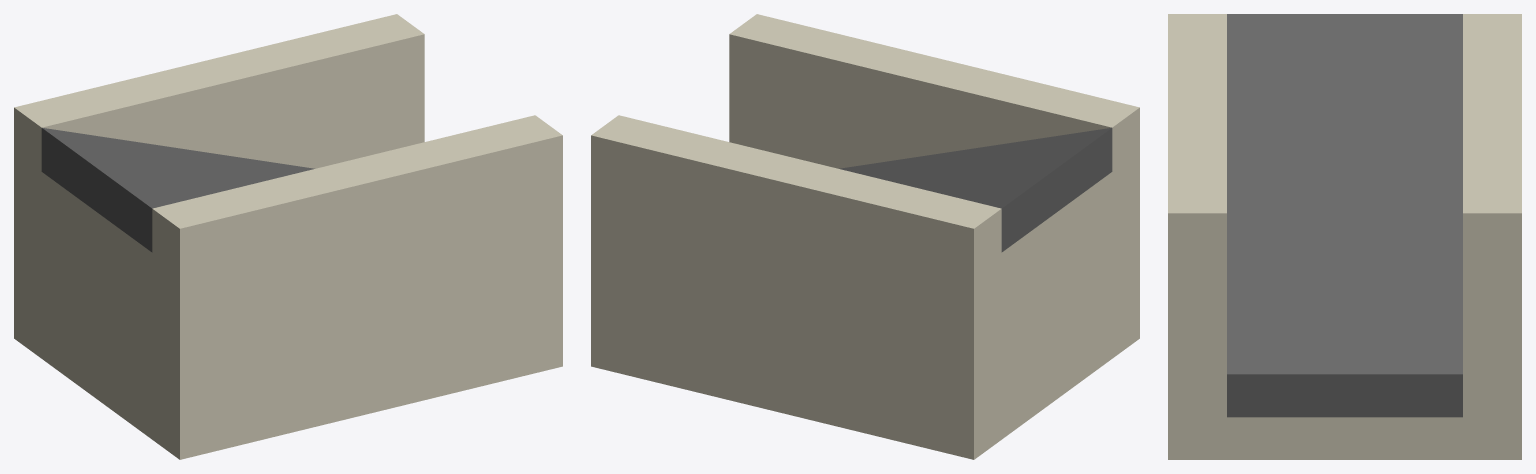
File: roadTile_225.fbx
3 views of the same model, side by side, from view 1: azimuth 30°, elevation 25°; view 2: azimuth 150°, elevation 25°; view 3: azimuth 270°, elevation 25° (orthographic). The views are drawn at different scales.
Parts seen in each view (by area): view 1: roadTile_225; view 2: roadTile_225; view 3: roadTile_225.
Part boxes in pixels (x1=…): roadTile_225: x1=14, y1=14, x2=562, y2=459; roadTile_225: x1=591, y1=14, x2=1139, y2=459; roadTile_225: x1=1168, y1=14, x2=1521, y2=459.
Size of the model in its own units: 118 by 68.11 by 88.58.
